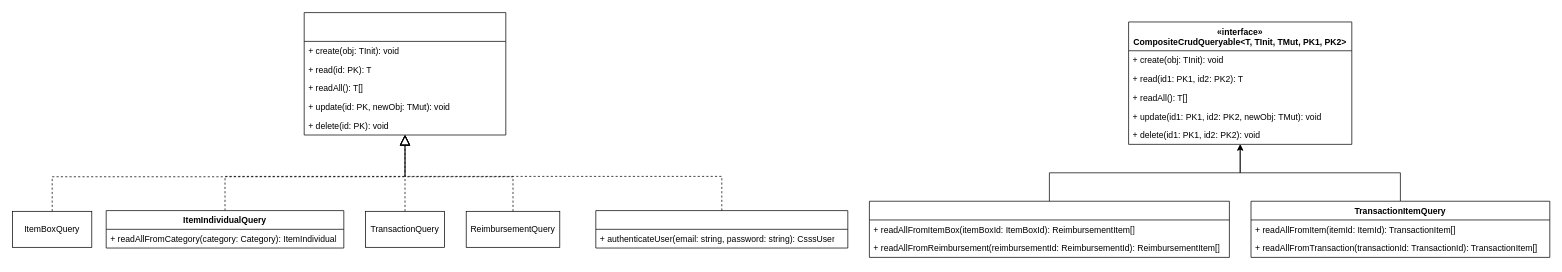
Image size: 1562x272. Some labels were removed from this diagram. The shapes that lost their labels are listed below. From the top down, each one's box as (x1, y1, x2, y2) in pixels, then its label:
(303, 12, 506, 135): «interface» SimpleCrudQueryable<T, TInit, TMut, PK>
(595, 210, 848, 248): CsssUserQuery
(869, 201, 1229, 257): ReimbursementItemBoxQuery
